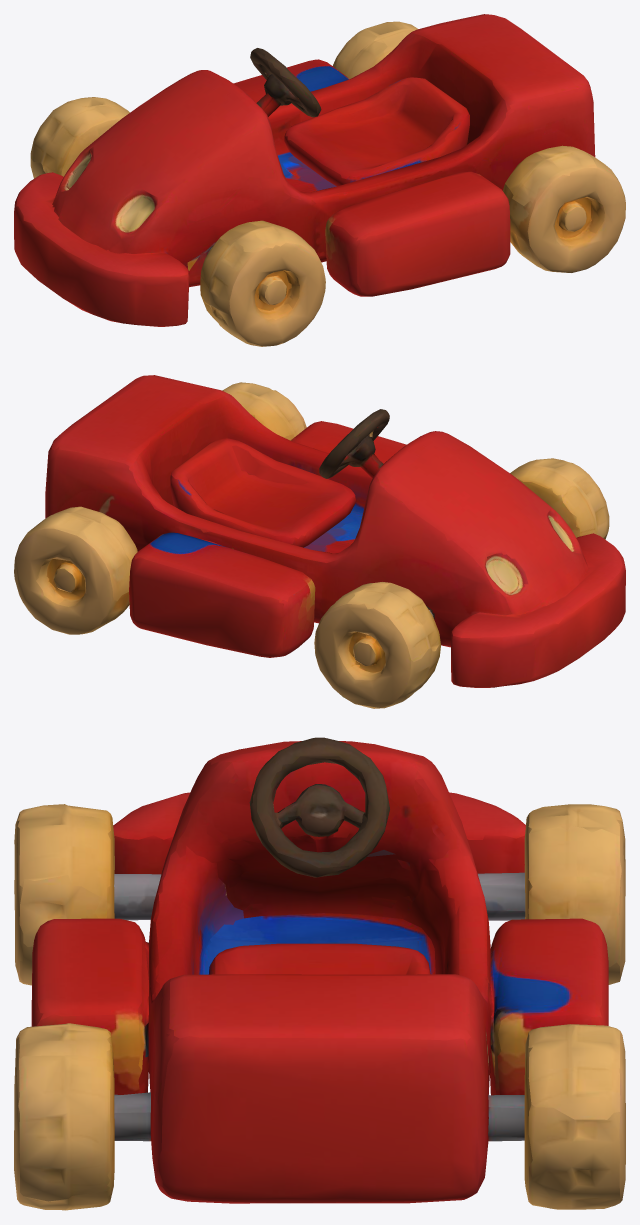
Rendered from kart-ia.glb.
The picture shows the model from 3 angles, top to bottom: view 1: azimuth 30°, elevation 25°; view 2: azimuth 150°, elevation 25°; view 3: azimuth 270°, elevation 25°; orthographic projection. The views are drawn at different scales.
Parts seen in each view (by area): view 1: textured_mesh.obj; view 2: textured_mesh.obj; view 3: textured_mesh.obj.
Boxes of the visible parts, x1,y1,x2,y2 form: textured_mesh.obj: (14, 14, 625, 346); textured_mesh.obj: (14, 375, 625, 708); textured_mesh.obj: (14, 737, 625, 1210).
Size of the model in its own units: 1.98 by 0.7608 by 1.38.
Materials: 1 (1 with a texture image).
